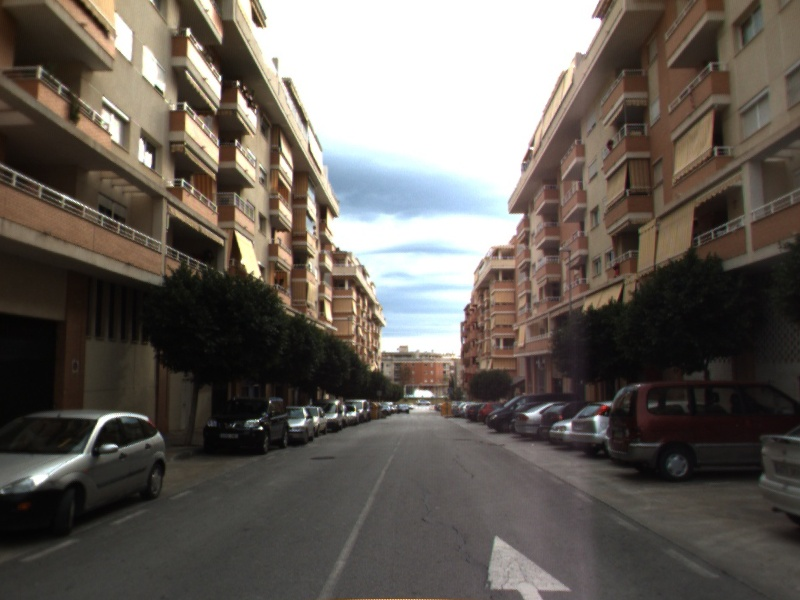STRAIGHT: (481, 533, 575, 600)
